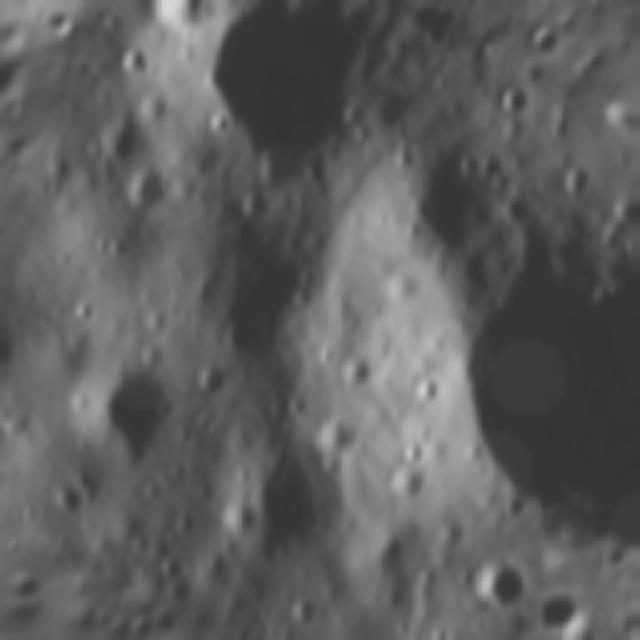crater: (400, 218, 640, 542), (151, 0, 431, 229), (70, 342, 207, 480), (463, 544, 546, 627), (118, 154, 194, 231), (93, 96, 167, 175), (130, 0, 233, 55), (104, 27, 176, 91), (312, 400, 376, 466), (552, 151, 612, 215), (232, 178, 290, 240), (196, 96, 252, 153), (189, 348, 245, 404), (468, 141, 520, 196), (336, 341, 386, 397), (49, 475, 102, 527), (497, 72, 549, 122), (218, 489, 268, 540), (156, 543, 202, 589), (282, 0, 341, 22), (0, 441, 17, 487)
